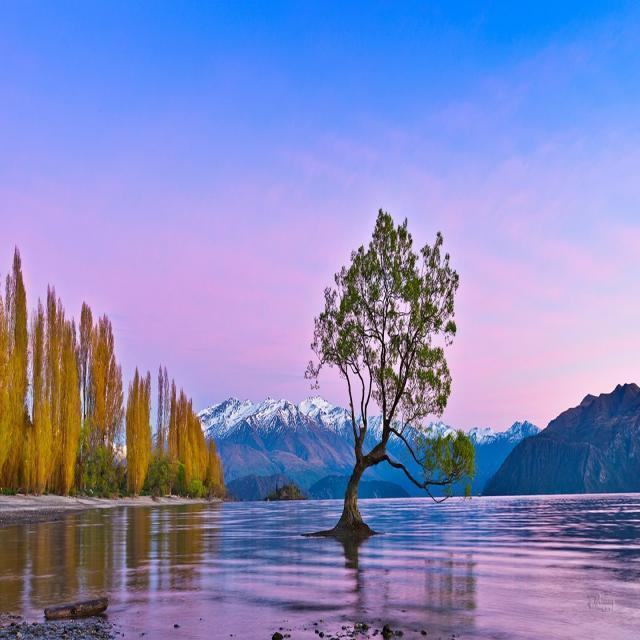tree: (308, 201, 477, 544), (44, 278, 76, 410), (123, 364, 153, 496), (12, 247, 30, 367), (78, 302, 94, 418), (107, 354, 123, 462), (156, 362, 170, 458), (32, 296, 44, 394), (208, 436, 226, 489), (169, 378, 179, 466)
